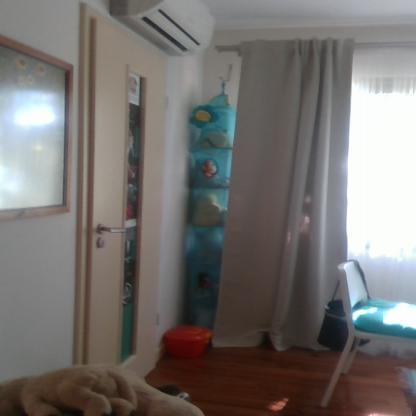door: (92, 19, 164, 380)
hinged: (166, 96, 170, 112), (156, 314, 160, 326)
lever: (102, 224, 130, 234)
